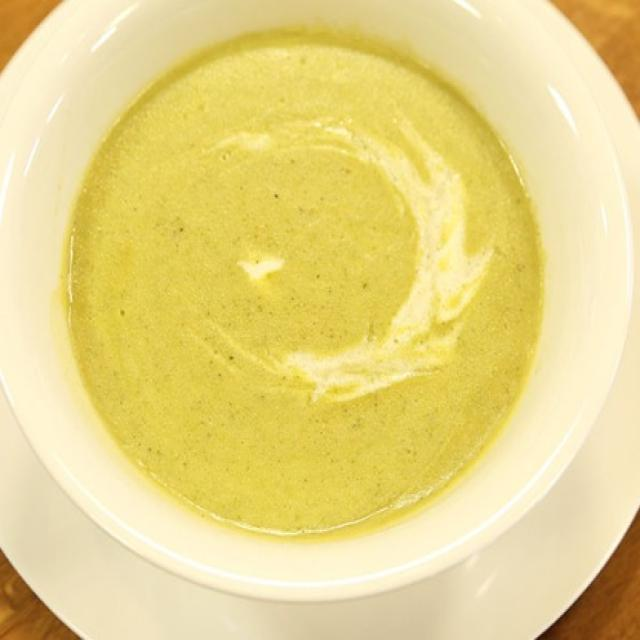corba: (62, 23, 546, 539)
